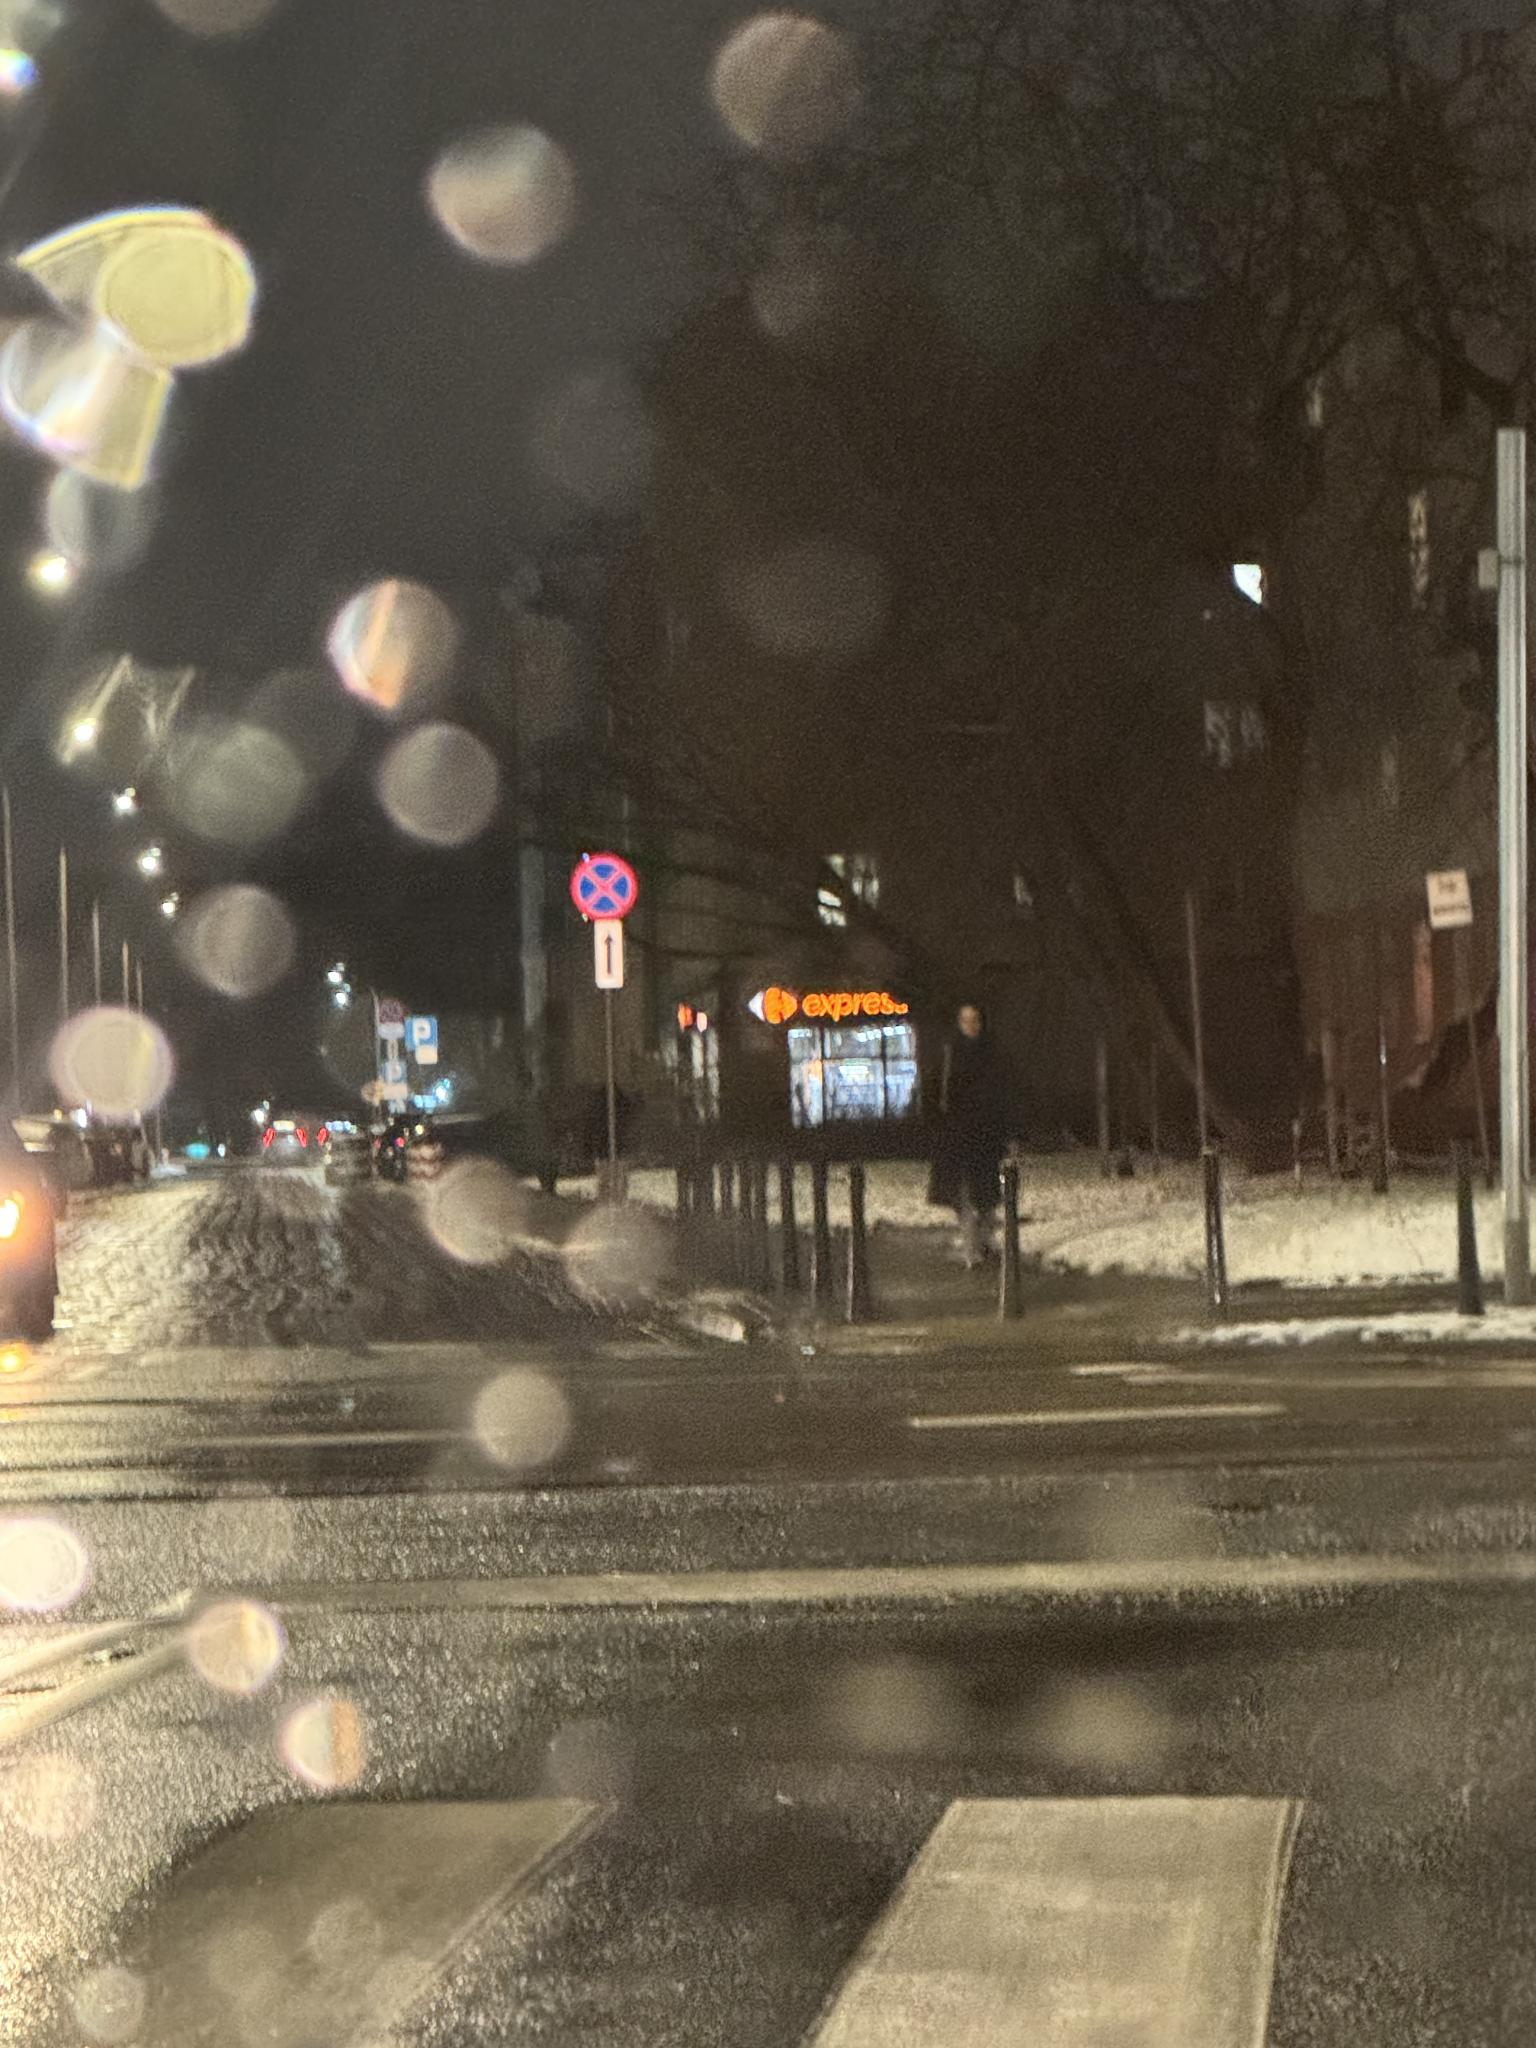information: (1426, 869, 1475, 927), (407, 1018, 437, 1048)
other: (594, 919, 626, 992)
prohibitory: (571, 855, 637, 921)
